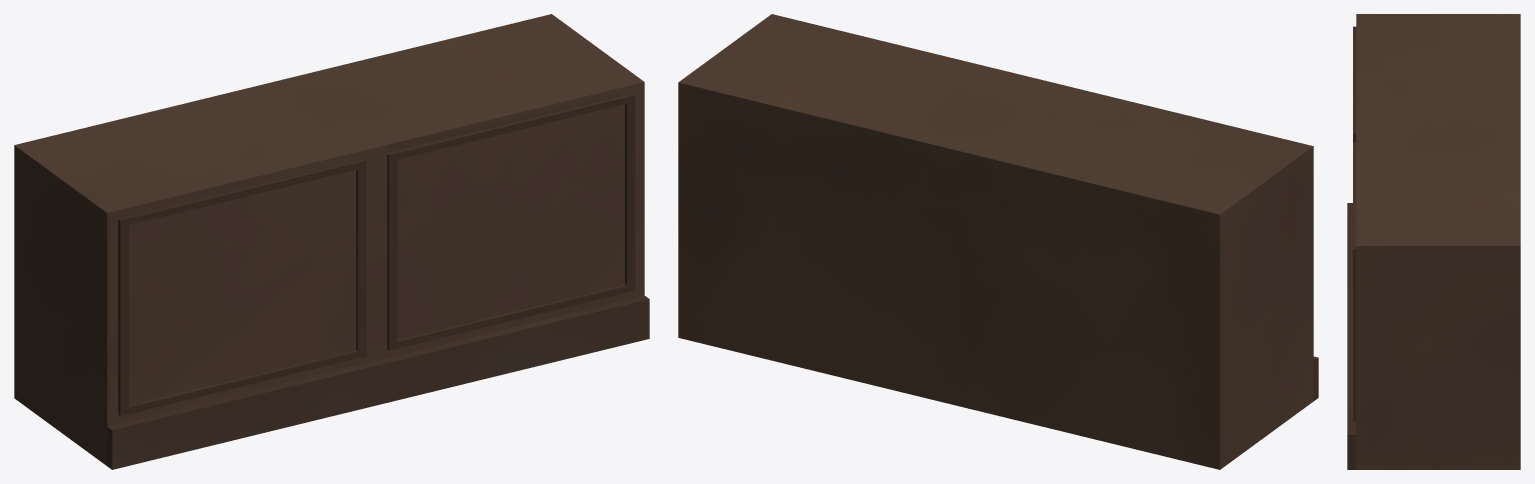
The model's file is Counter2.fbx.
3 views of the same model, side by side, from view 1: azimuth 30°, elevation 25°; view 2: azimuth 150°, elevation 25°; view 3: azimuth 270°, elevation 25° (orthographic). The views are drawn at different scales.
Parts seen in each view (by area): view 1: Counter2; view 2: Counter2; view 3: Counter2.
Boxes of the visible parts, <box> form: Counter2: <box>14,14,649,469</box>; Counter2: <box>678,14,1318,469</box>; Counter2: <box>1347,14,1520,469</box>.
Size of the model in its own units: 200 by 89.99 by 63.1.
